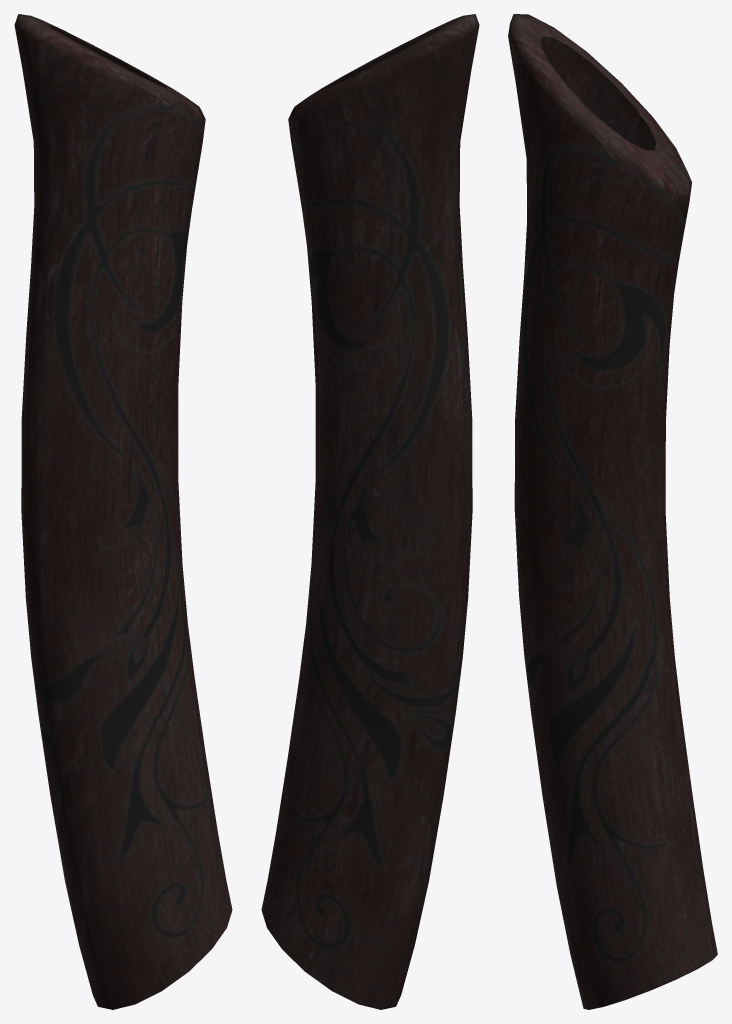
The model's file is wm_rivendell_sword_a01_black_handle.fbx.
3 renders of one model, left to right at view 1: azimuth 30°, elevation 25°; view 2: azimuth 150°, elevation 25°; view 3: azimuth 330°, elevation 25°, orthographic. The views are drawn at different scales.
Visible parts, largest first — view 1: wm_rivendell_sword_a01_black_handle; view 2: wm_rivendell_sword_a01_black_handle; view 3: wm_rivendell_sword_a01_black_handle.
Part boxes in pixels (x1,y1,x2,y2): wm_rivendell_sword_a01_black_handle: (14, 14, 232, 1009); wm_rivendell_sword_a01_black_handle: (261, 14, 479, 1009); wm_rivendell_sword_a01_black_handle: (508, 14, 717, 1009).
Size of the model in its own units: 0.0602 by 0.0265 by 0.2751.
Materials: 1 (1 with a texture image).
